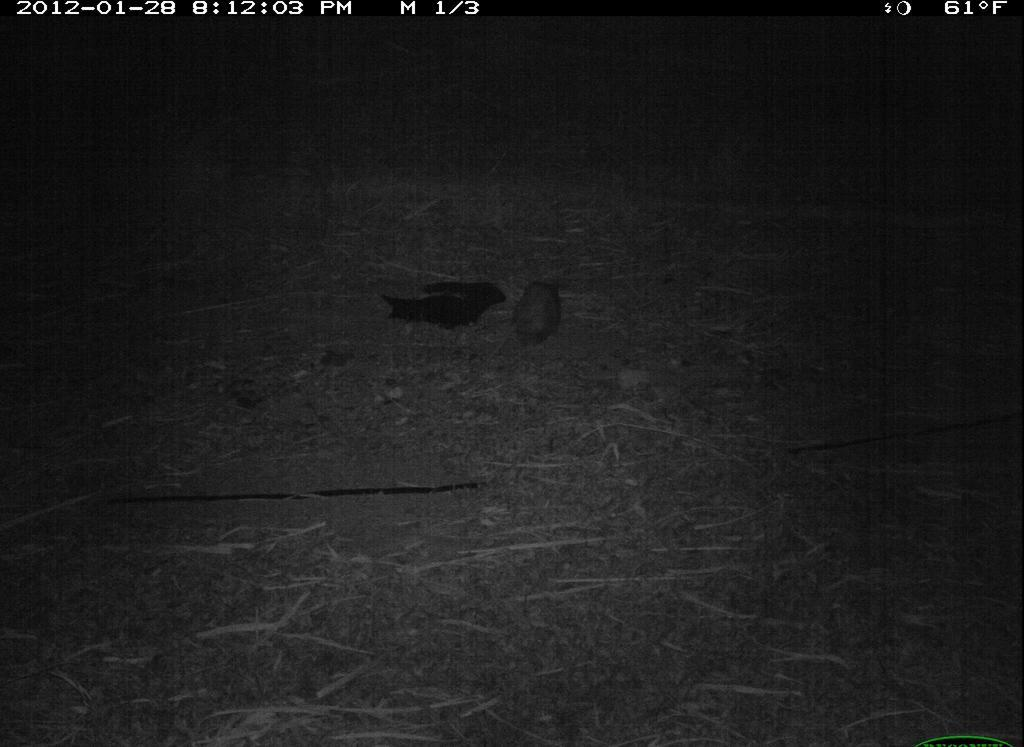opossum: (498, 267, 574, 353)
